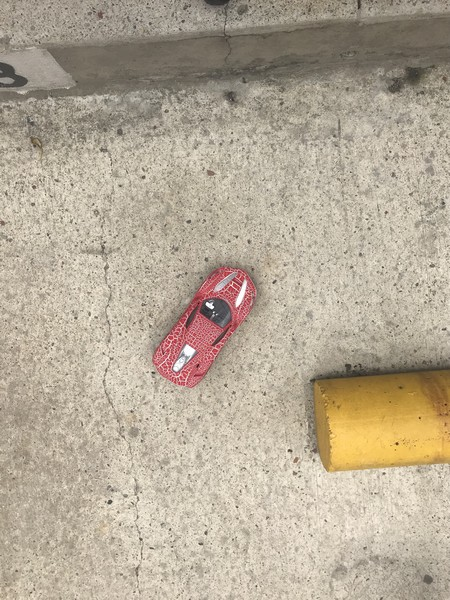RC: (151, 265, 259, 390)
